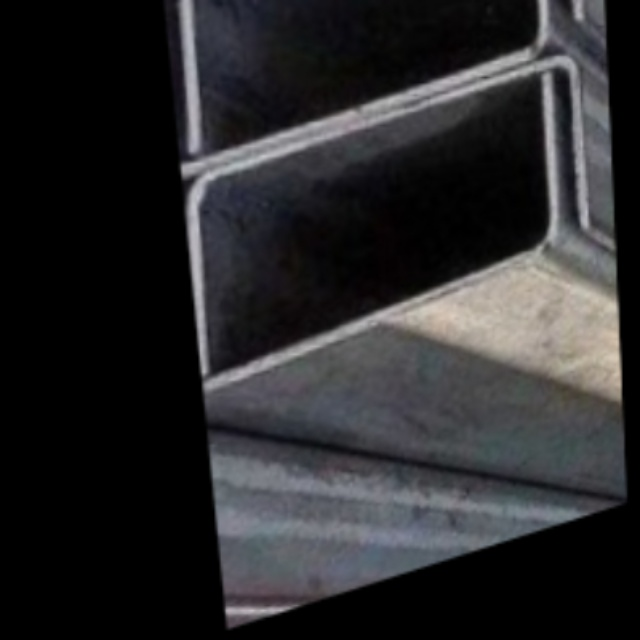Shveller: (175, 62, 590, 372), (176, 78, 559, 389), (152, 0, 550, 172), (169, 0, 584, 149)
